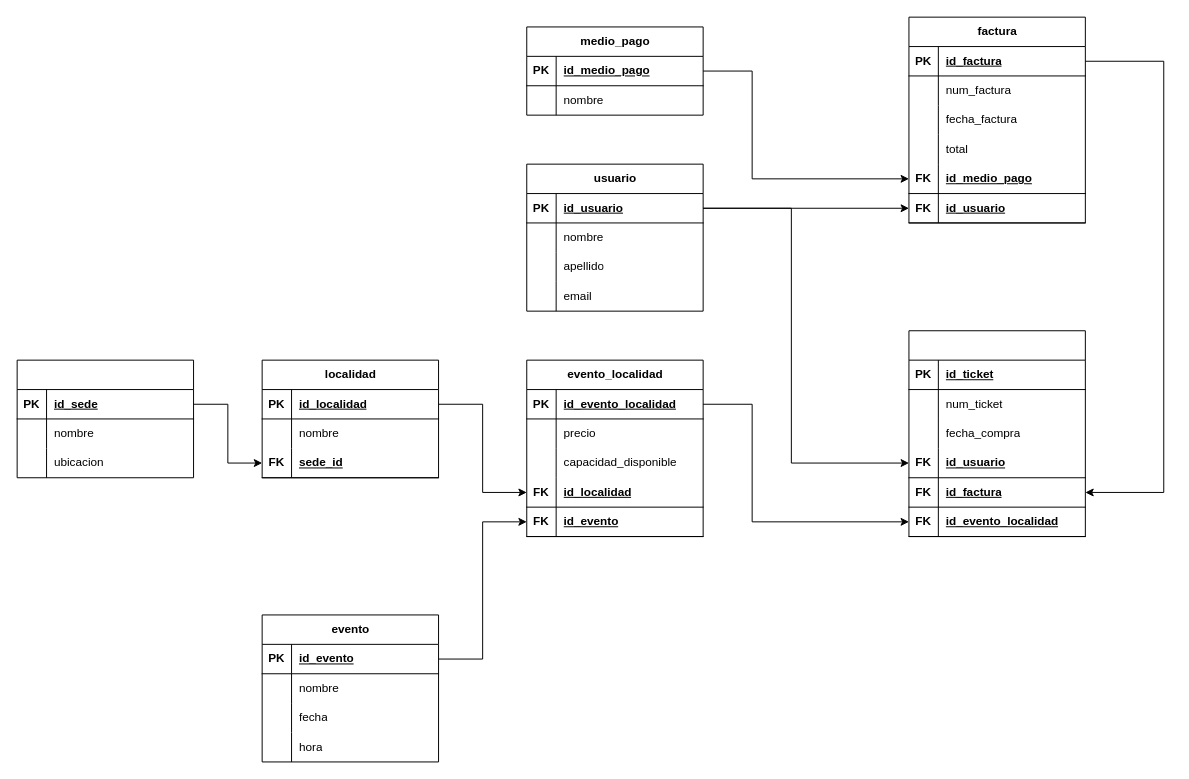
This 1189x779 diagram has some shape labels left out. Each missing label, with the box of its shape:
boleto: (908, 330, 1085, 537)
sede_evento: (16, 359, 194, 478)
